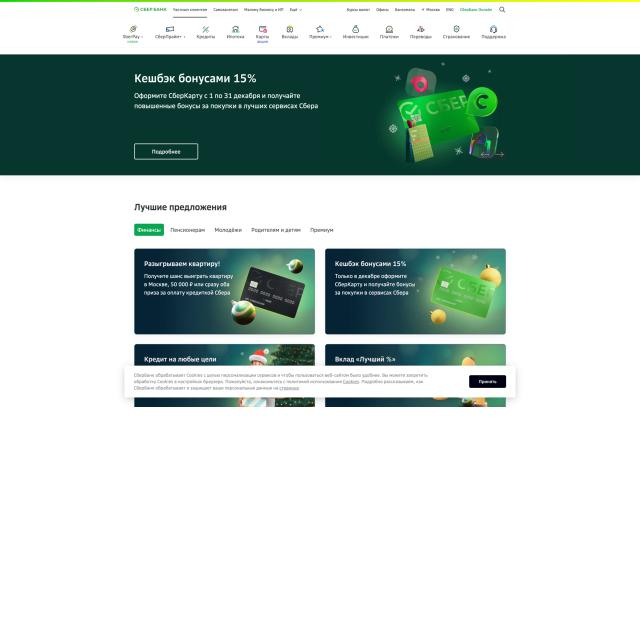CheckBox: (134, 143, 198, 160), (469, 374, 506, 388), (134, 223, 165, 237)
Input field: (134, 372, 428, 392), (132, 90, 320, 112)
alert: (289, 7, 303, 13)
bag: (0, 0, 640, 55)
breadcrumbs: (133, 202, 229, 214)
card: (0, 54, 640, 174)
carousel: (499, 6, 506, 13)
data feed: (151, 148, 182, 156), (478, 378, 497, 386), (137, 228, 162, 234)
date picker: (133, 6, 168, 12)
decoration: (120, 24, 508, 45), (132, 222, 336, 238), (172, 6, 306, 18), (345, 6, 493, 14)
header: (124, 365, 516, 398)
image: (133, 71, 259, 86)
